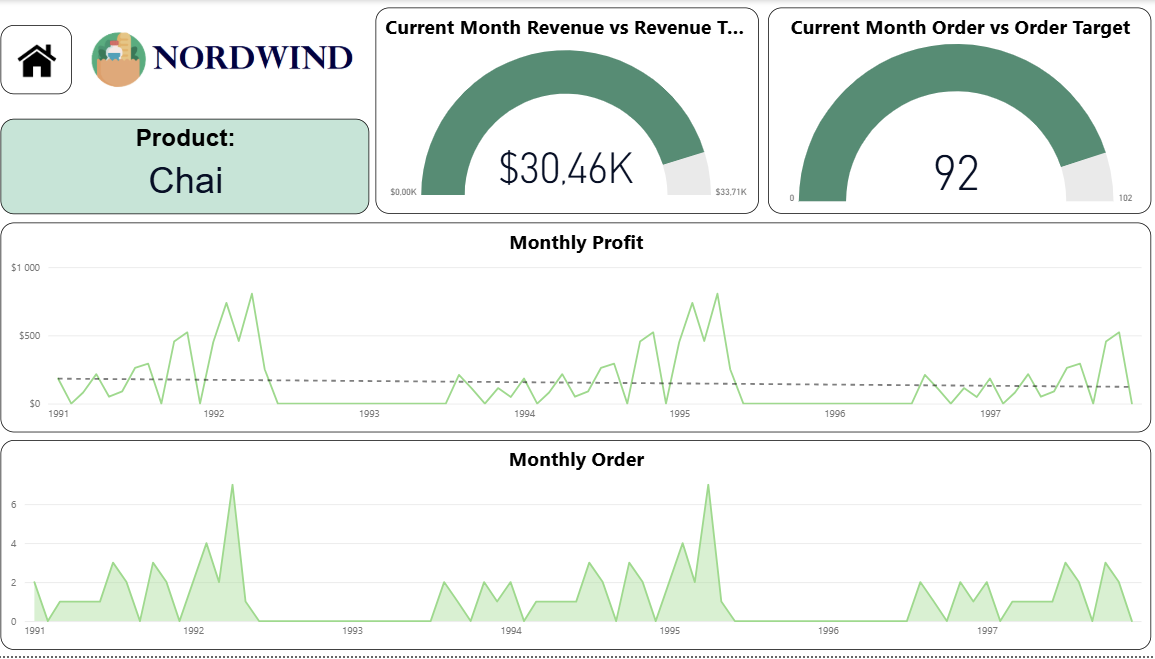

Layout of this report page (visuals, bound fields, positions):
{"tool":"powerbi","page":{"name":"Products Overview","canvas":[1280,720],"ordinal":2},"visuals":[{"type":"lineChart","title":"Monthly Profit","fields":{"Y":["NW_Orders_Details_Total.Total Profit"],"Category":["Calendar.Start_of_Month"]},"box":[8.9,244.5,1262.8,230.6],"z":1000},{"type":"stackedAreaChart","title":"Monthly Order","fields":{"Category":["Calendar.Start_of_Month"],"Y":["NW_Orders_Details_Total.Order_Cases_Dist"]},"box":[8.9,483,1262.8,230.6],"z":2000},{"type":"gauge","title":"Current Month Order vs Order Target","fields":{"Y":["NW_Orders_Details_Total.Order_Cases_Dist"],"MaxValue":["NW_Orders_Details_Total.Order Target"]},"box":[850.2,7.8,421.2,226.6],"z":3000},{"type":"gauge","title":"Current Month Revenue vs Revenue Target","fields":{"Y":["NW_Orders_Details_Total.Revenue"],"MaxValue":["NW_Orders_Details_Total.Revenue_10%"]},"box":[420.3,7.8,421.2,226.6],"z":4000},{"type":"card","title":"Product:","fields":{"Values":["Min(products_dir.product_name)"]},"box":[8.6,129.7,404.8,104.6],"z":5000},{"type":"image","box":[8.6,26.8,78.7,76.1],"z":6000},{"type":"image","box":[97,0,308.8,129.6],"z":7000}]}

Visuals, with their boxes in screenshot pixels (x1, y1, x2, y2), scaled from the page's 1280x720 canvas onto the 1155x659 screenshot:
"Monthly Profit" lineChart: bbox=(8, 224, 1148, 435)
"Monthly Order" stackedAreaChart: bbox=(8, 442, 1148, 653)
"Current Month Order vs Order Target" gauge: bbox=(767, 7, 1147, 215)
"Current Month Revenue vs Revenue Target" gauge: bbox=(379, 7, 759, 215)
"Product:" card: bbox=(8, 119, 373, 214)
image: bbox=(8, 25, 79, 94)
image: bbox=(88, 0, 366, 119)
